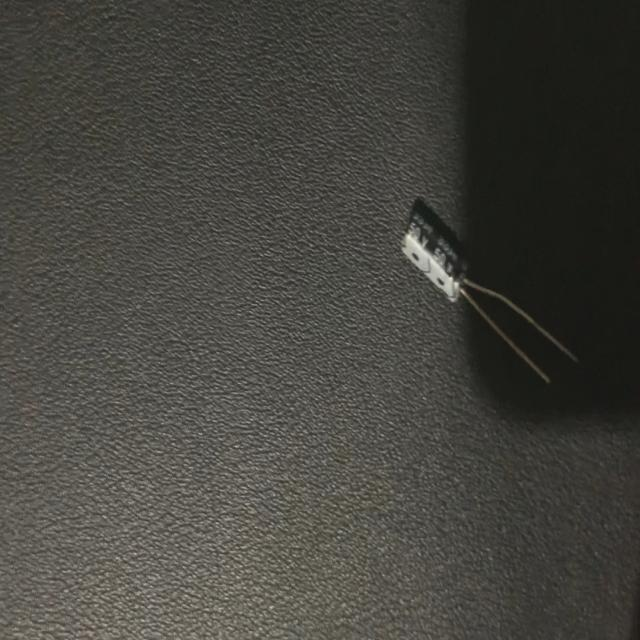capacitor: (402, 206, 580, 382)
